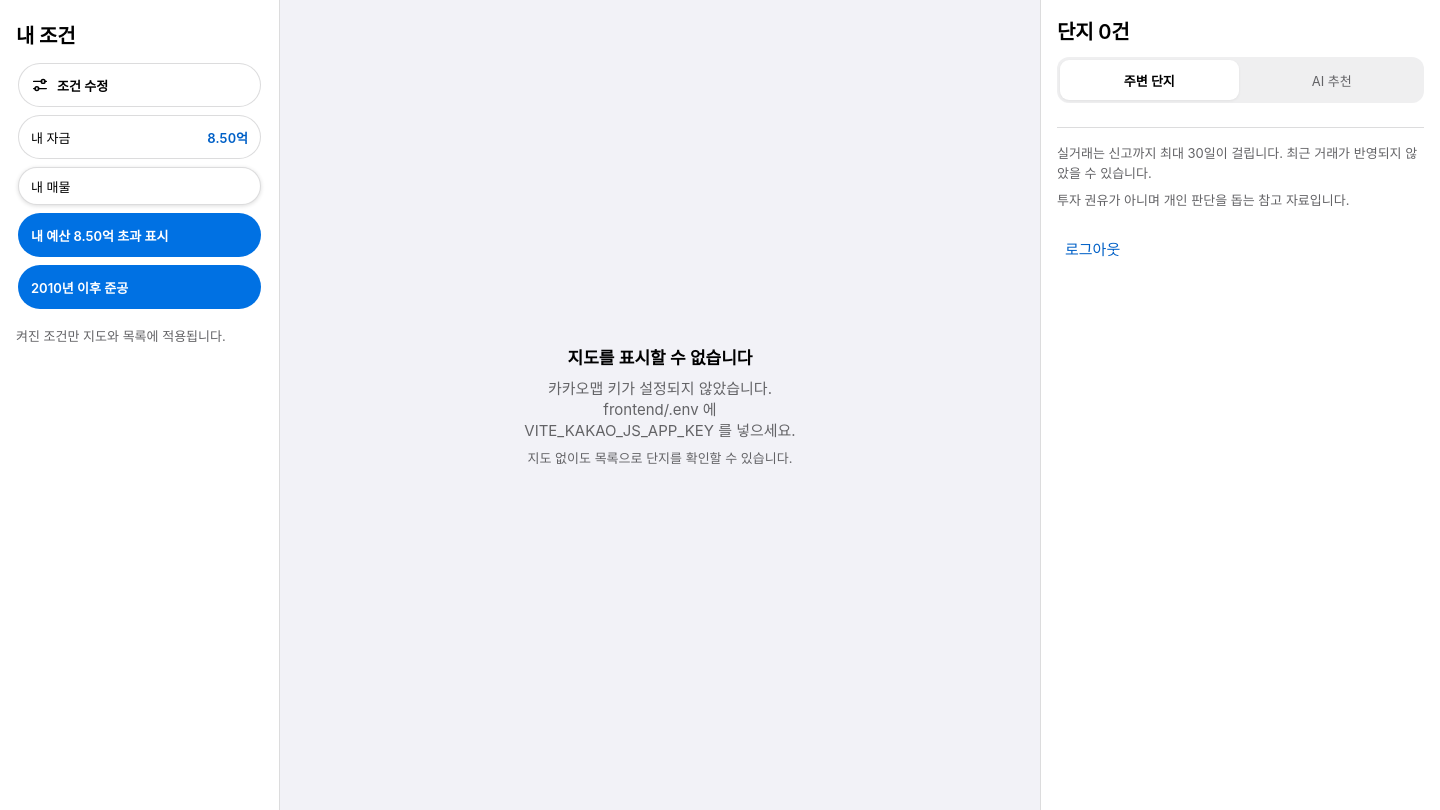
it: 프로필이 있을 때 › 자금 탭에서 한도를 묶은 제약과 근거 출처를 함께 보여준다
The image size is (1440, 810).
Step 1. Click the button "내 자금 8.50억" → (140, 137), box left=18, top=115, right=261, bottom=159
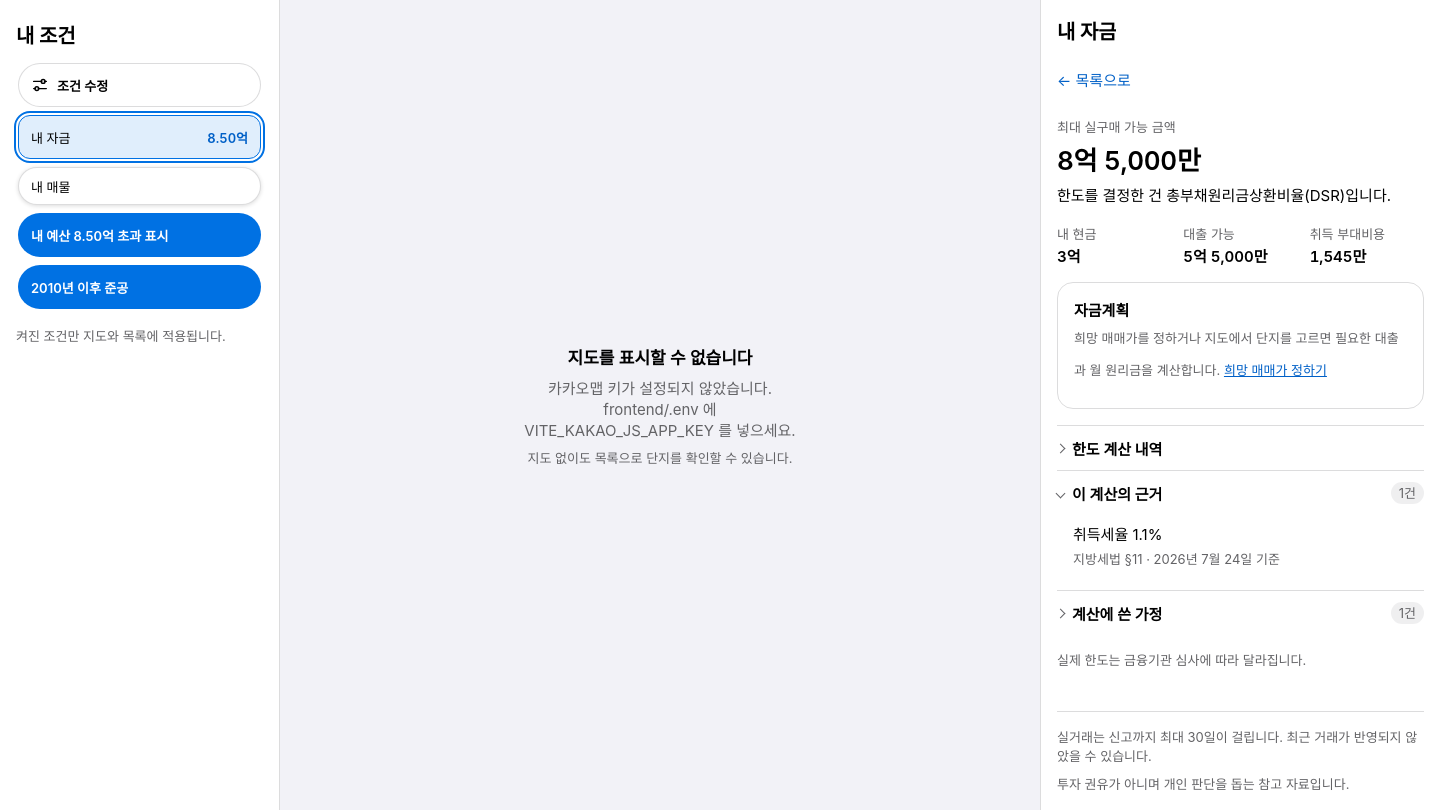
Check: the text "8억 5,000만" is shown, box left=1057, top=140, right=1201, bottom=177
Check: the text "한도를 결정한 건 총부채원리금상환비율(DSR)입니다." is shown, box left=1057, top=185, right=1424, bottom=208
Check: the text "취득세율 1.1%" is shown, box left=1073, top=525, right=1162, bottom=544
